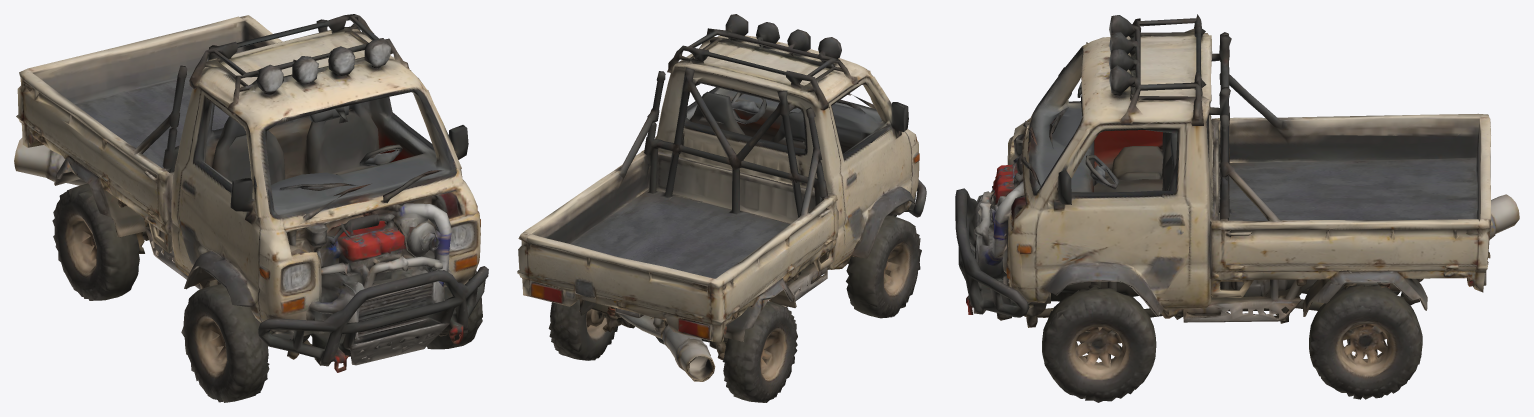
File: kei_truck_repaired_tripo_original.glb
3 renders of one model, left to right at view 1: azimuth 30°, elevation 25°; view 2: azimuth 150°, elevation 25°; view 3: azimuth 270°, elevation 25°, orthographic. The views are drawn at different scales.
Visible parts, largest first — view 1: tripo_node_b0139146-2167-4bf2-ac20-2c2dde85ca32; view 2: tripo_node_b0139146-2167-4bf2-ac20-2c2dde85ca32; view 3: tripo_node_b0139146-2167-4bf2-ac20-2c2dde85ca32.
Part boxes in pixels (box(x1,y1,x2,y2)): tripo_node_b0139146-2167-4bf2-ac20-2c2dde85ca32: box(14, 14, 488, 402); tripo_node_b0139146-2167-4bf2-ac20-2c2dde85ca32: box(517, 14, 926, 402); tripo_node_b0139146-2167-4bf2-ac20-2c2dde85ca32: box(955, 14, 1519, 402).
Size of the model in its own units: 0.4902 by 0.5847 by 0.9807.
1 material, 1 textured.
